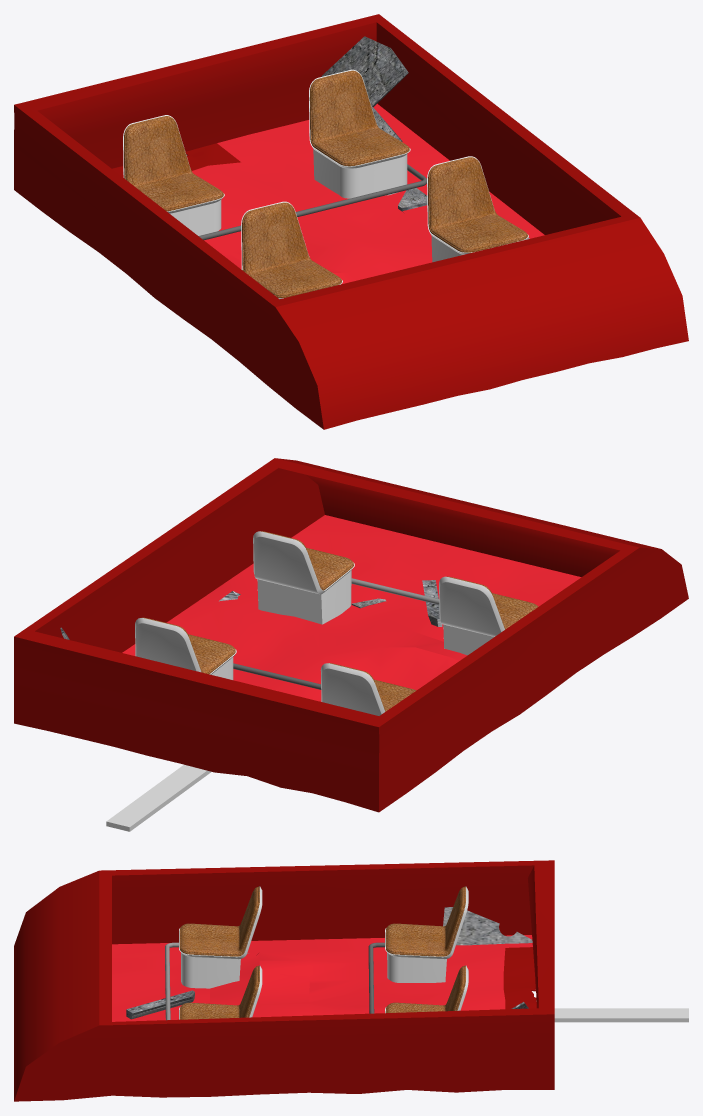
Rendered from Train.fbx.
The picture shows the model from 3 angles, top to bottom: view 1: azimuth 30°, elevation 25°; view 2: azimuth 150°, elevation 25°; view 3: azimuth 270°, elevation 25°; orthographic projection. The views are drawn at different scales.
Parts seen in each view (by area): view 1: Cube.001, Spine Chair.005, Plane_cell.008, Cylinder.004; view 2: Cube.001, Spine Chair.005; view 3: Cube.001, Spine Chair.005, Plane_cell.005, Plane_cell.011, Cylinder.001, Cylinder.004.
Part boxes in pixels (x1,y1,x2,y2): Cube.001: (14, 14, 688, 429); Spine Chair.005: (123, 69, 528, 299); Plane_cell.008: (321, 36, 408, 141); Cylinder.004: (198, 164, 426, 240); Cube.001: (14, 458, 688, 831); Spine Chair.005: (135, 531, 538, 715); Cube.001: (14, 860, 688, 1101); Spine Chair.005: (179, 886, 468, 1019); Plane_cell.005: (443, 907, 532, 945); Plane_cell.011: (126, 990, 194, 1019); Cylinder.001: (165, 942, 178, 1020); Cylinder.004: (368, 942, 384, 1013).
Bounding box in the file's own units: 242 × 64.19 × 444.
Materials: 8 (2 with a texture image).
